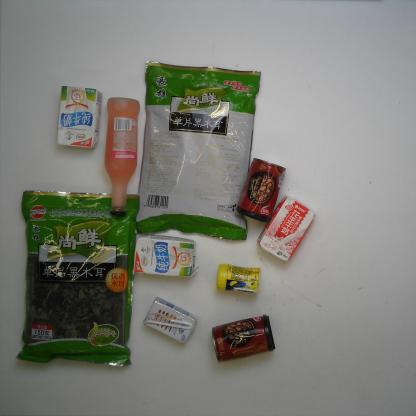Alcohol: (101, 95, 142, 217)
Canned Food: (235, 157, 289, 223), (210, 314, 277, 364)
Dried Food: (134, 59, 264, 243), (13, 189, 142, 367)
Gum: (214, 261, 261, 296)
Milk: (256, 194, 316, 262), (129, 231, 200, 279), (53, 86, 103, 150), (140, 295, 200, 343)
